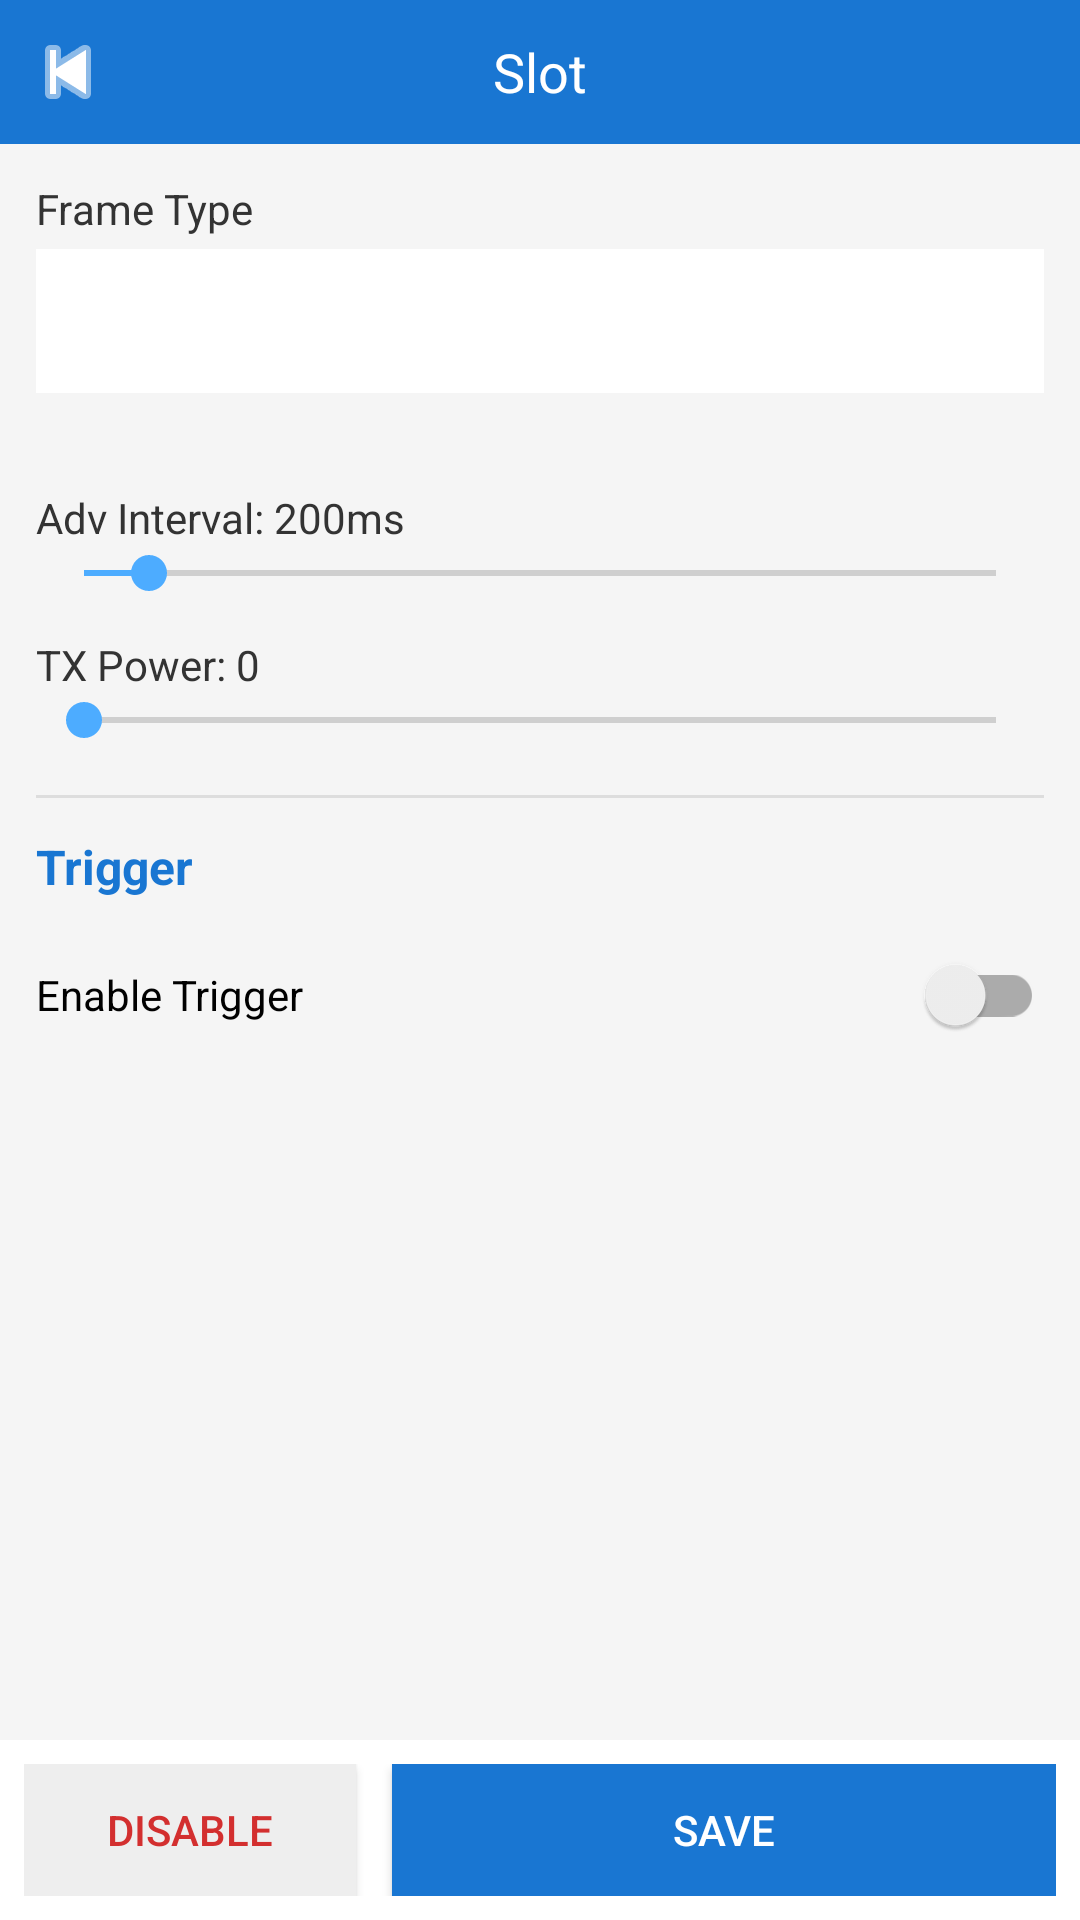

Where icons sit on this 1080px×1920px app screen, as (x1, y1, x2, y2):
Back: (45, 45, 91, 99)
